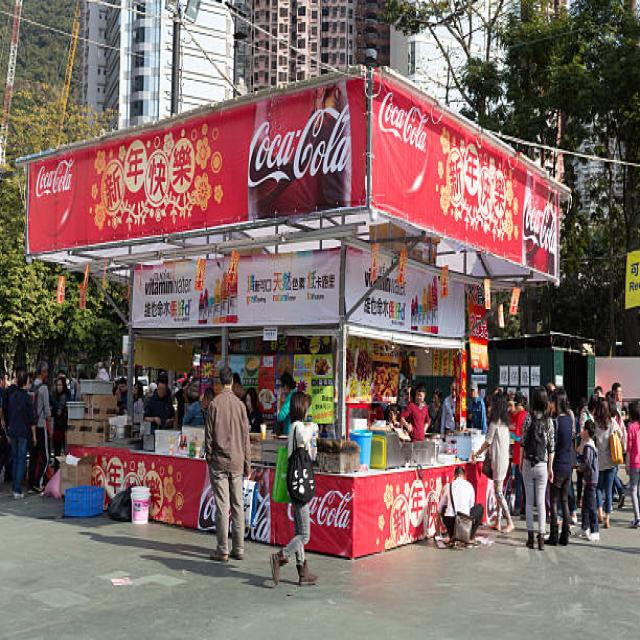Emperan: (11, 56, 581, 571)
